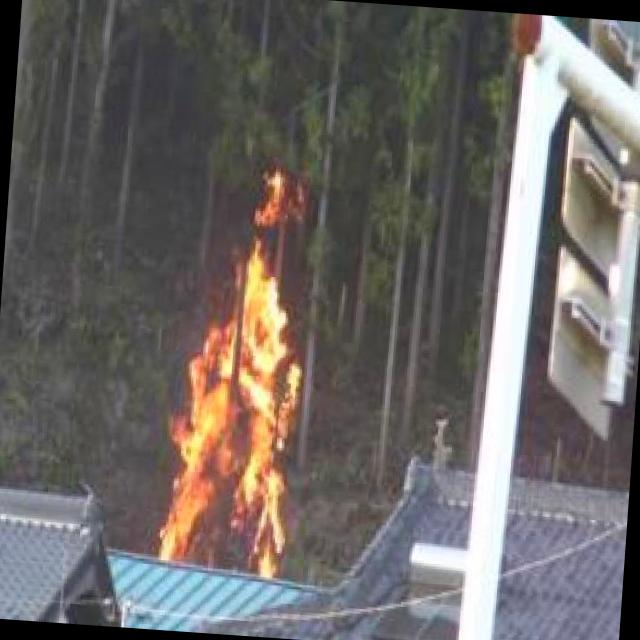fire: (153, 165, 337, 581)
